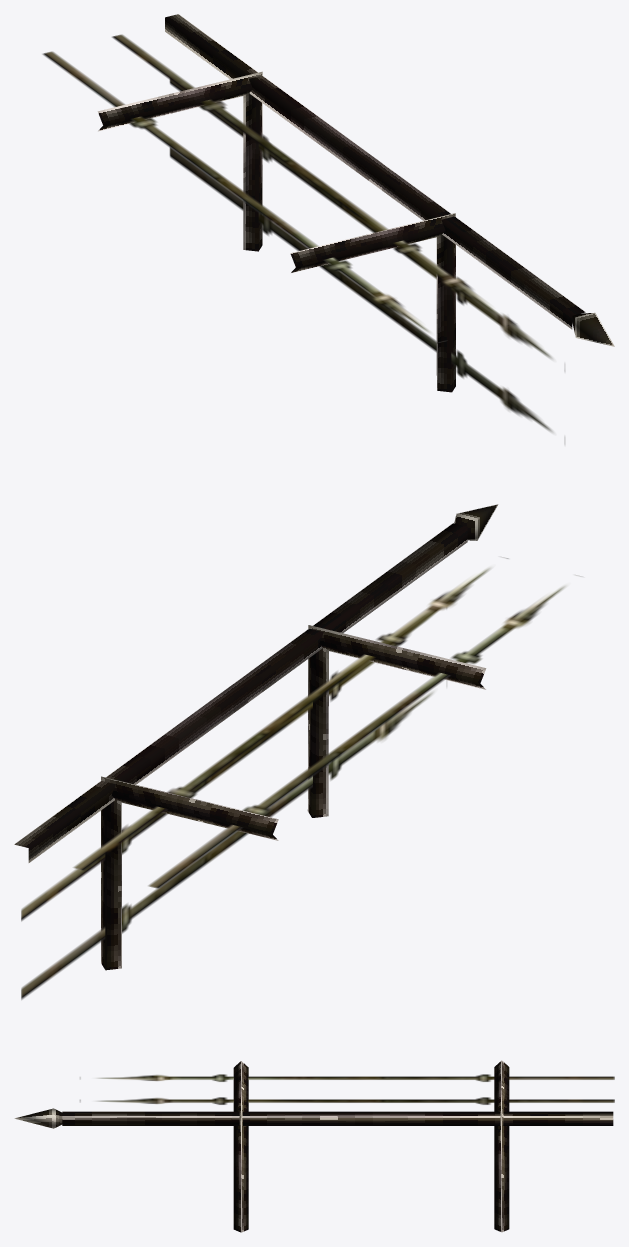
File: SteelWall01.glb
3 renders of one model, top to bottom at view 1: azimuth 30°, elevation 25°; view 2: azimuth 150°, elevation 25°; view 3: azimuth 270°, elevation 25°, orthographic. The views are drawn at different scales.
Visible parts, largest first — view 1: model_SteelWall01; view 2: model_SteelWall01; view 3: model_SteelWall01.
Boxes of the visible parts, bbox=[...] form: model_SteelWall01: bbox=[42, 14, 614, 443]; model_SteelWall01: bbox=[14, 504, 582, 999]; model_SteelWall01: bbox=[14, 1060, 614, 1232].
Size of the model in its own units: 0.5343 by 0.5355 by 2.47.
2 materials, 2 textured.
